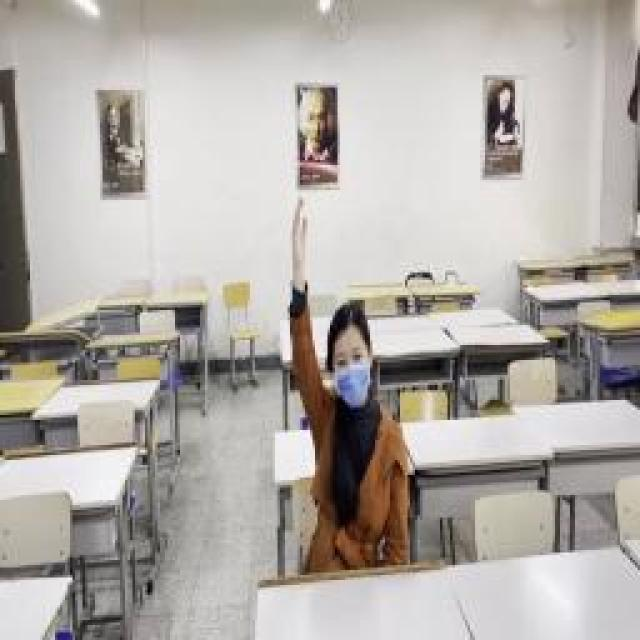study: (290, 198, 405, 568)
